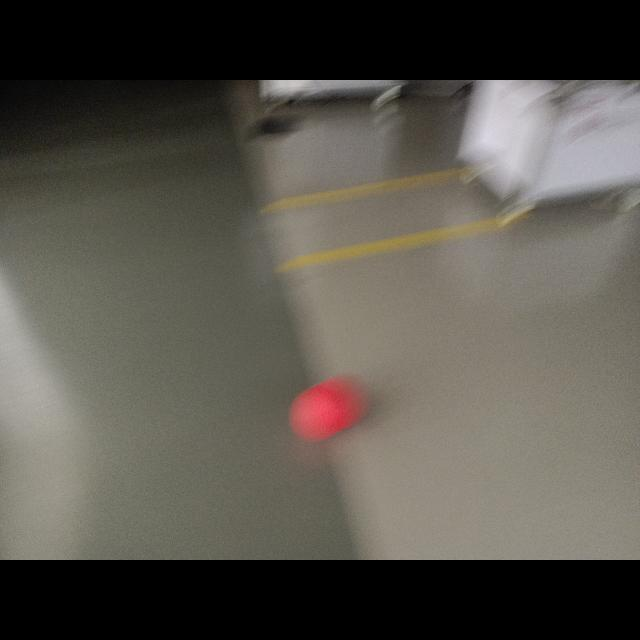R: (290, 370, 368, 442)
